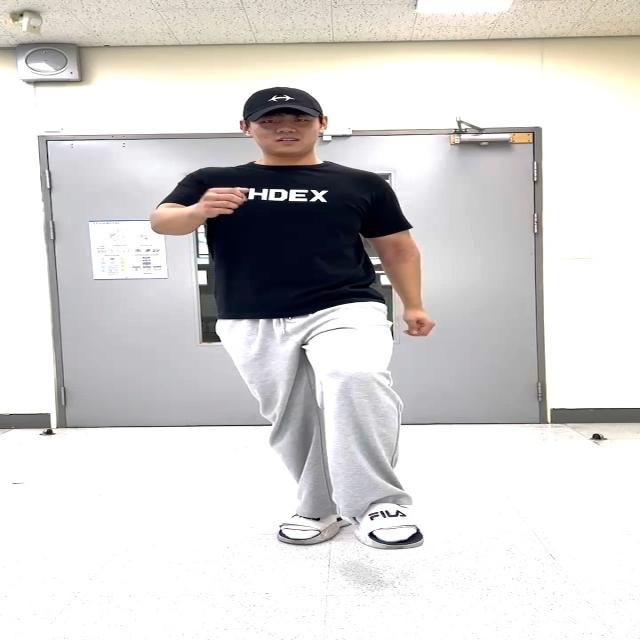leg: (317, 318, 422, 553)
